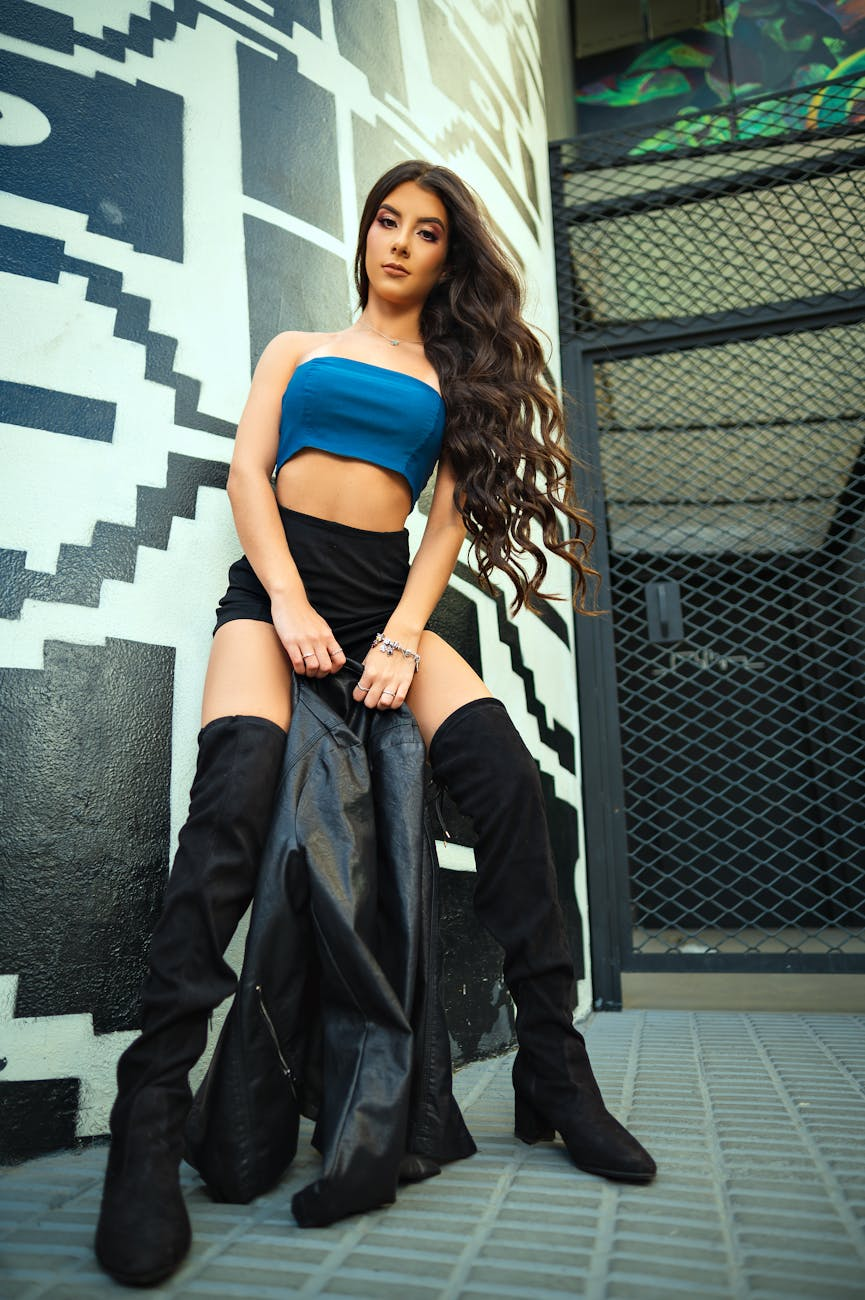crop_top: (262, 346, 459, 497)
shorts: (212, 505, 444, 652)
